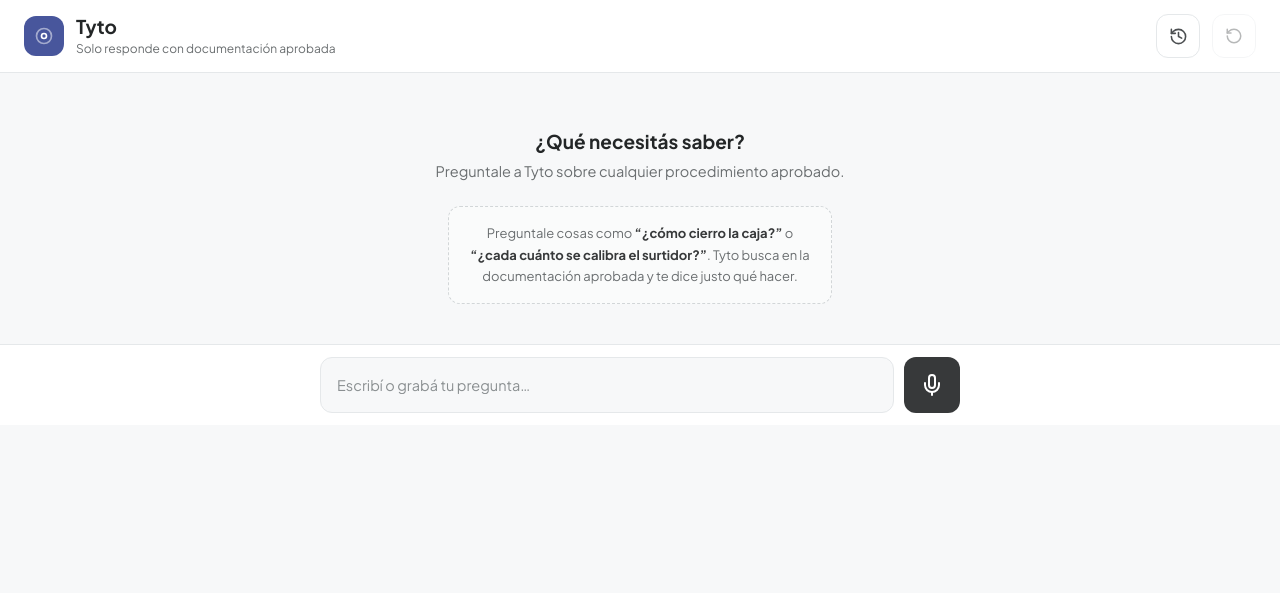
Scenario: ConsultarPage › un fallo de red se explica como tal (no un error genérico) y permite reintentar sin perder la pregunta
Type "¿Cómo cierro la caja?" into the field with placeholder "Escribí o grabá tu pregunta…" at (607,385), box [320,357,894,413]
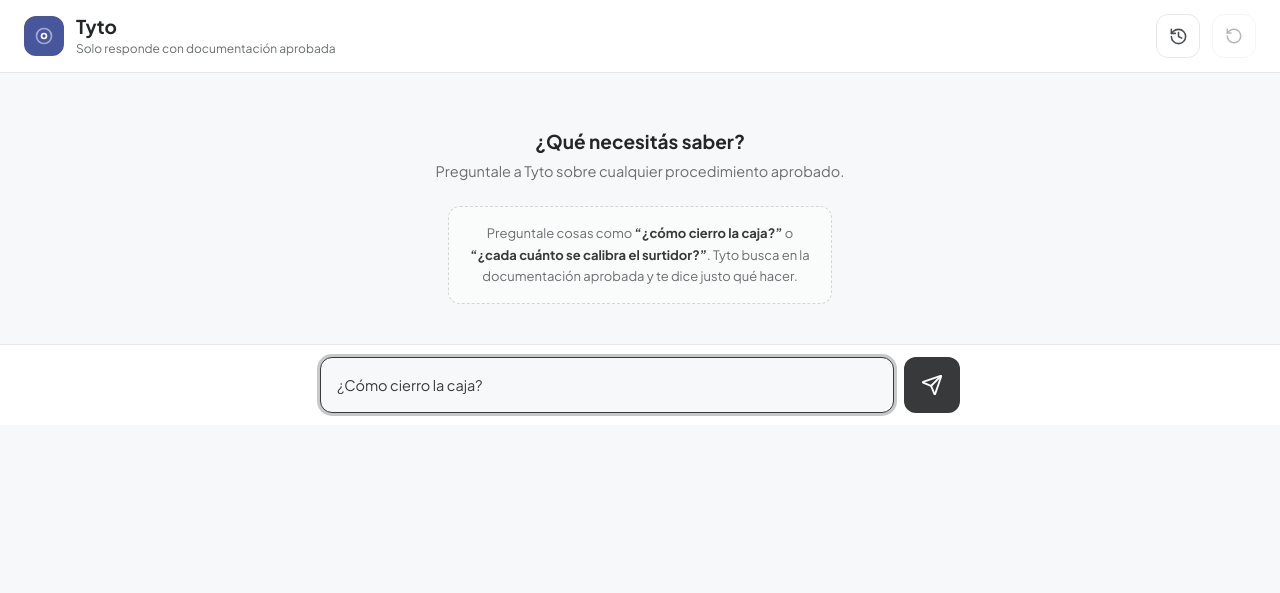
Click the button named "Enviar pregunta" at (932,385), box [904,357,960,413]
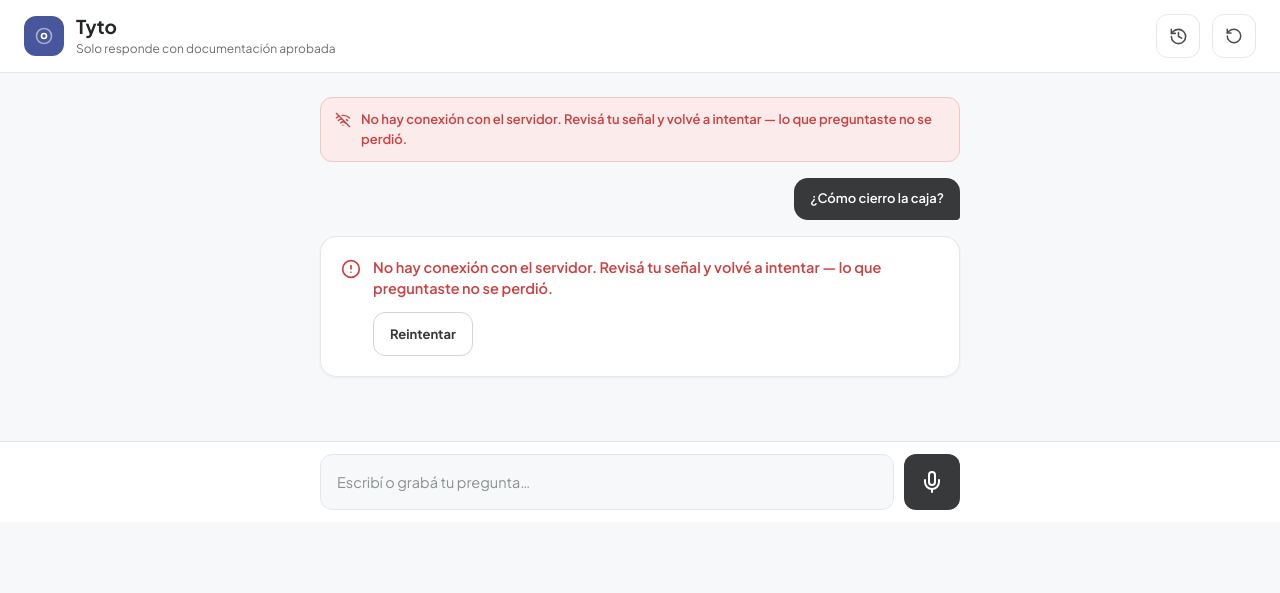
Expected: the text "¿Cómo cierro la caja?" is shown, [794,178,960,220]
Click the button "Reintentar" at (423,334), box [373,312,473,356]
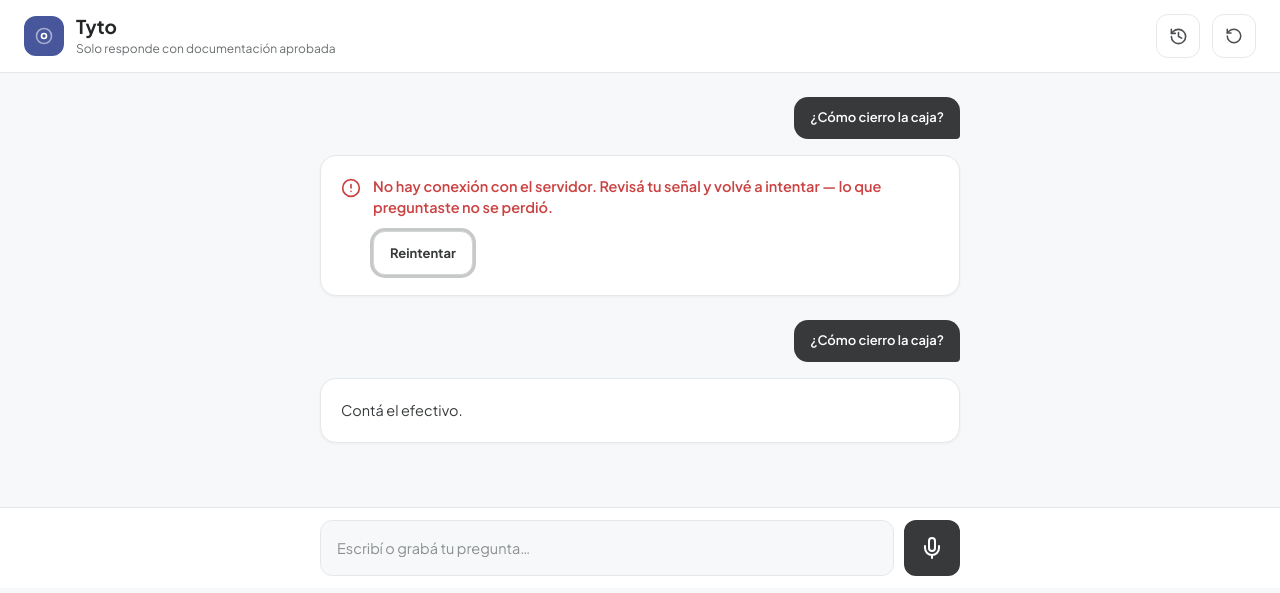
Result: the text "Contá el efectivo." is shown at [341,400,463,418]
